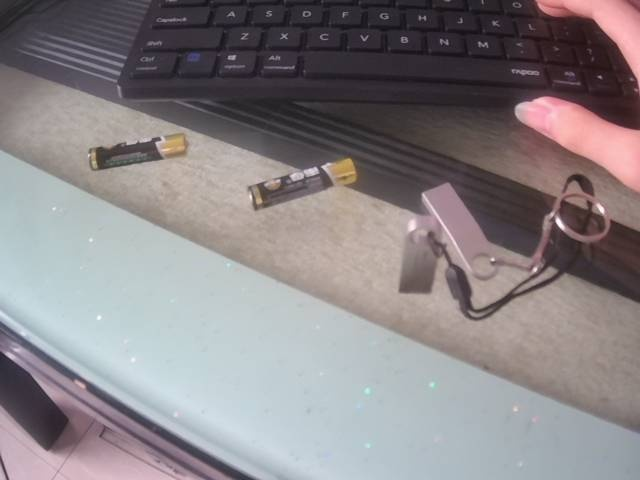U-disk: (418, 176, 613, 276), (399, 213, 456, 318)
battery: (246, 155, 360, 212), (87, 129, 192, 173)
